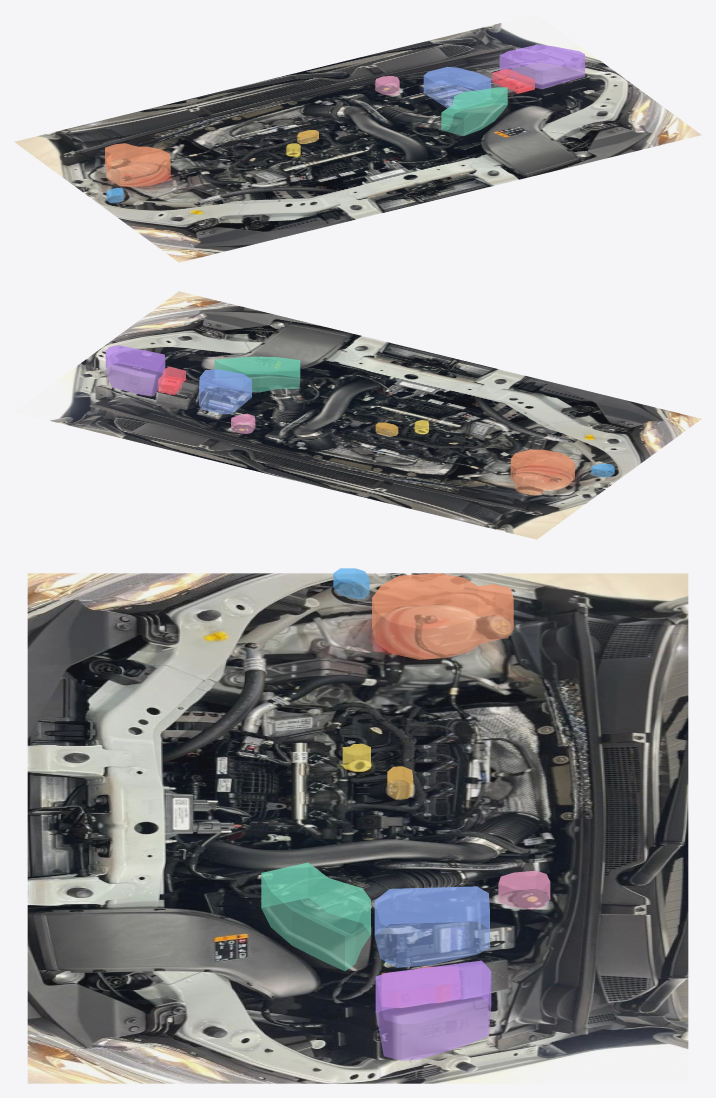
Rendered from chevrolet-onix-2023-photo-reference-inspection.glb.
The picture shows the model from 3 angles, top to bottom: view 1: azimuth 30°, elevation 25°; view 2: azimuth 150°, elevation 25°; view 3: azimuth 270°, elevation 25°; orthographic projection. The views are drawn at different scales.
Visible parts, largest first — view 1: Source photograph, Fuse box, Coolant reservoir, Air filter housing, 12 V battery, Positive battery terminal, Brake fluid reservoir; view 2: Source photograph, Coolant reservoir, Fuse box, Air filter housing, 12 V battery, Positive battery terminal, Brake fluid reservoir; view 3: Source photograph, Coolant reservoir, Fuse box, 12 V battery, Air filter housing, Brake fluid reservoir, Washer filler, Oil filler cap.
Part boxes in pixels (x1=…): Source photograph: x1=14, y1=14, x2=701, y2=262; Fuse box: x1=499, y1=44, x2=584, y2=88; Coolant reservoir: x1=105, y1=143, x2=170, y2=187; Air filter housing: x1=441, y1=87, x2=507, y2=135; 12 V battery: x1=423, y1=66, x2=491, y2=108; Positive battery terminal: x1=491, y1=68, x2=534, y2=93; Brake fluid reservoir: x1=375, y1=76, x2=399, y2=95; Source photograph: x1=14, y1=291, x2=701, y2=539; Coolant reservoir: x1=510, y1=449, x2=574, y2=495; Fuse box: x1=105, y1=345, x2=165, y2=395; Air filter housing: x1=214, y1=356, x2=300, y2=392; 12 V battery: x1=199, y1=369, x2=251, y2=414; Positive battery terminal: x1=157, y1=366, x2=185, y2=394; Brake fluid reservoir: x1=231, y1=413, x2=255, y2=433; Source photograph: x1=27, y1=573, x2=688, y2=1083; Coolant reservoir: x1=372, y1=573, x2=513, y2=659; Fuse box: x1=375, y1=960, x2=491, y2=1060; 12 V battery: x1=374, y1=886, x2=489, y2=967; Air filter housing: x1=261, y1=862, x2=370, y2=970; Brake fluid reservoir: x1=498, y1=870, x2=550, y2=909; Washer filler: x1=333, y1=568, x2=369, y2=599; Oil filler cap: x1=387, y1=766, x2=413, y2=799.
Bounding box in the file's own units: 1 × 0.0332 × 0.5469.
10 materials, 1 textured.
